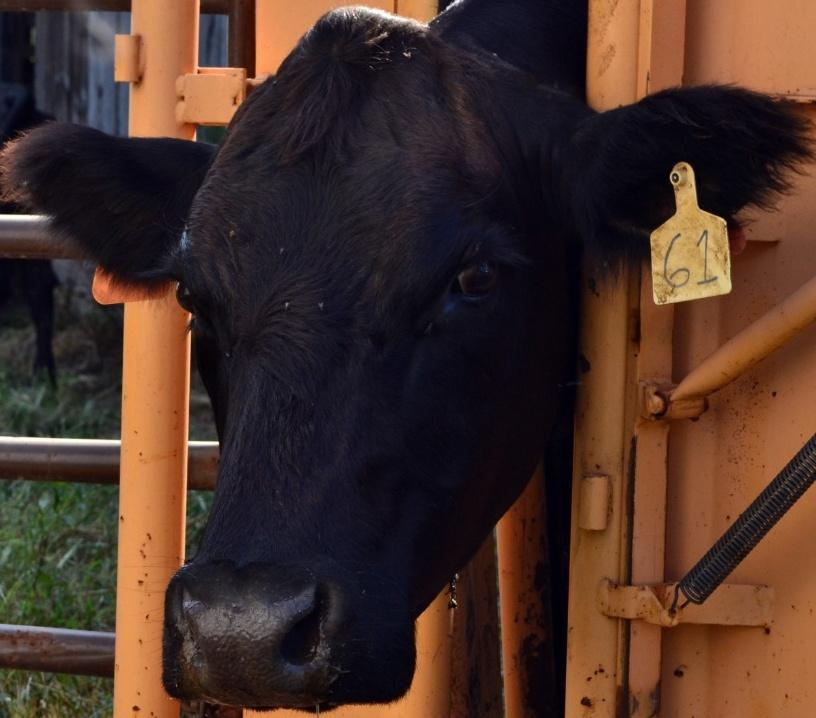muzzles: (152, 561, 429, 718)
